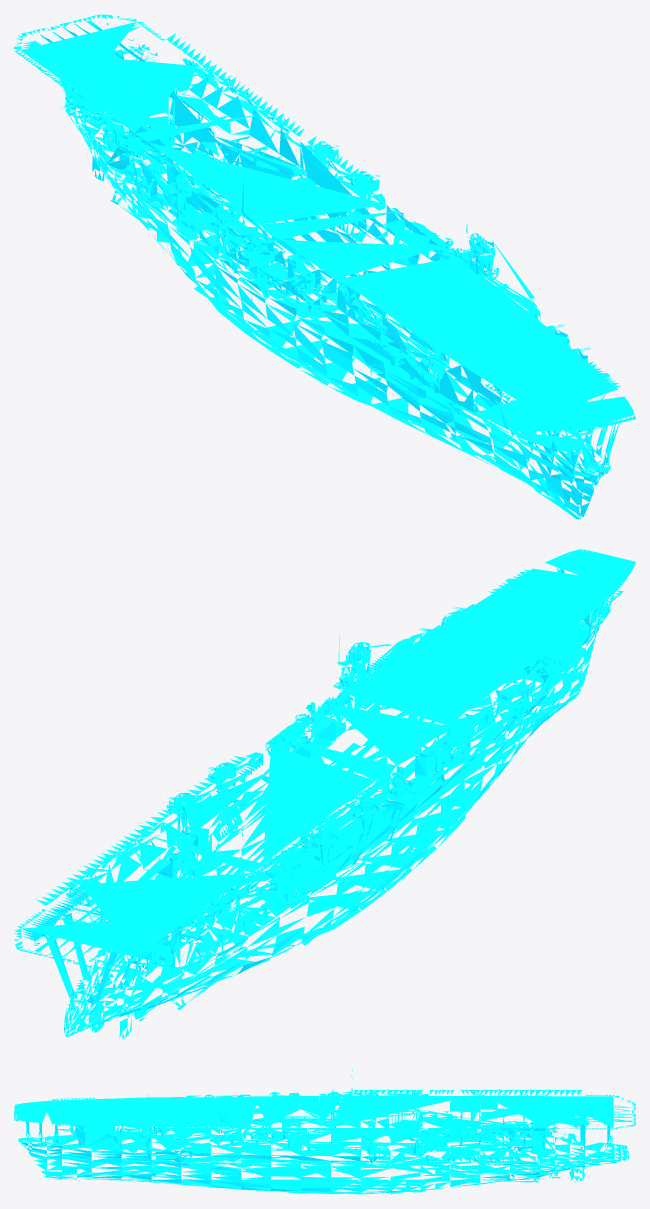
File: PJSA518.glb
3 views of the same model, one above another, from view 1: azimuth 30°, elevation 25°; view 2: azimuth 150°, elevation 25°; view 3: azimuth 270°, elevation 25° (orthographic). The views are drawn at different scales.
Visible parts, largest first — view 1: hull, turret; view 2: hull, turret; view 3: hull, turret.
Part boxes in pixels (x1=…): hull: x1=14, y1=14, x2=635, y2=519; turret: x1=96, y1=141, x2=590, y2=368; hull: x1=14, y1=548, x2=635, y2=1039; turret: x1=167, y1=604, x2=564, y2=968; hull: x1=14, y1=1069, x2=635, y2=1194; turret: x1=108, y1=1089, x2=533, y2=1164.
Bounding box in the file's own units: 3.03 × 3.18 × 16.67.
